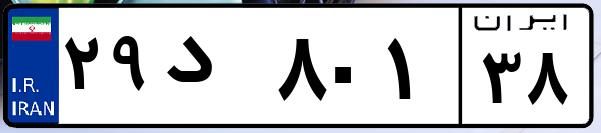0: (330, 28, 385, 110)
1: (385, 28, 445, 110)
2: (57, 26, 110, 100)
3: (475, 38, 525, 113)
8: (270, 28, 330, 110), (525, 38, 570, 115)
9: (110, 28, 158, 98)
د: (158, 20, 270, 120)
